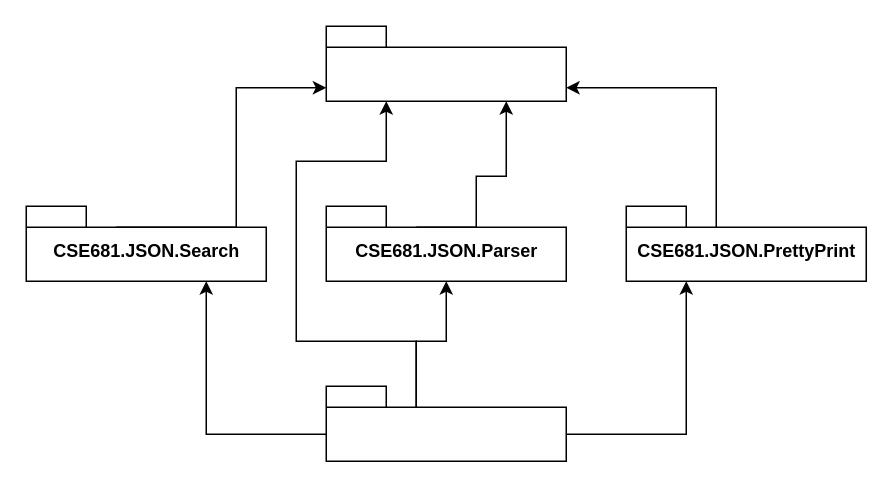
Image size: 893x488. Some labels were removed from this diagram. The shapes that lost their labels are listed below. From the top down, each one's box as (x1, y1, x2, y2) in pixels, then its label:
(325, 25, 566, 101): CSE681.JSON.DOMs
(325, 385, 566, 461): CSE681.GUI.Project1
